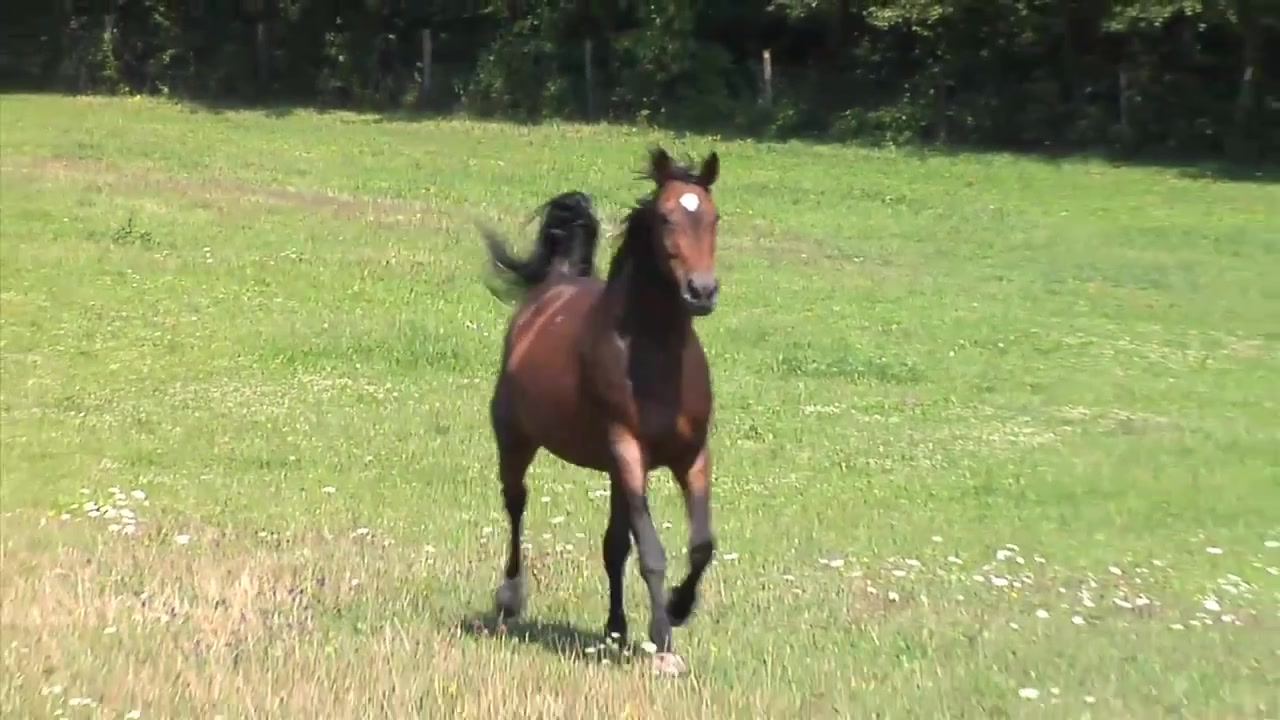horse: (476, 148, 729, 674)
